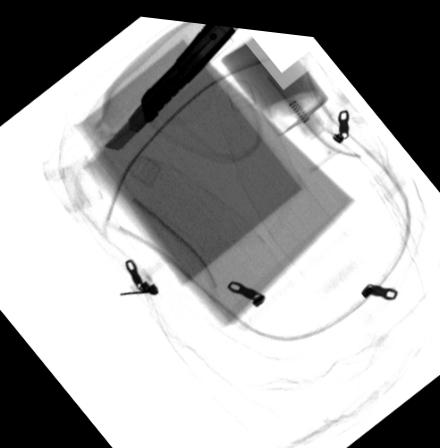Knife: (102, 19, 238, 148)
